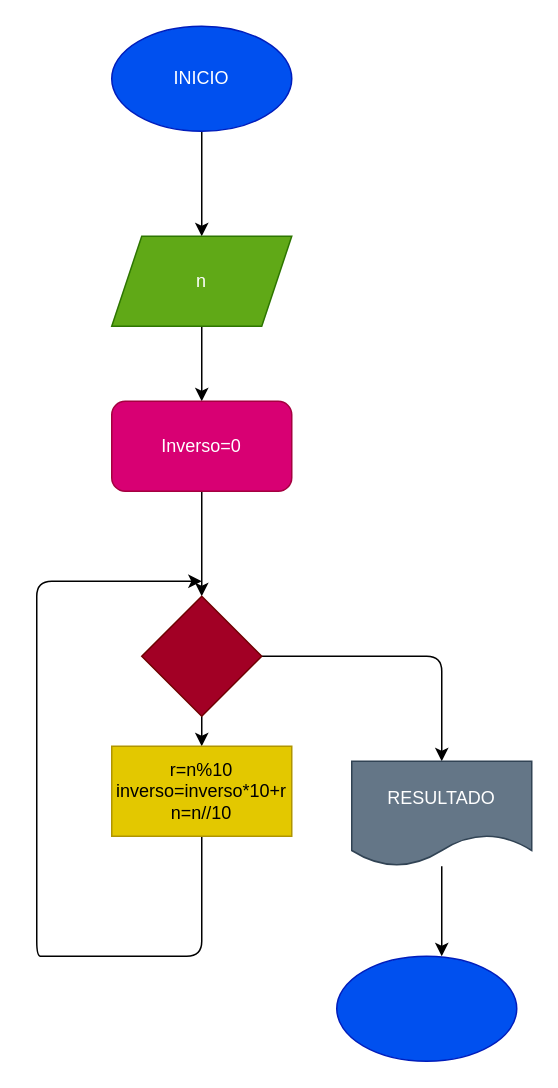
This 558x1088 diagram has some shape labels left out. Each missing label, with the centre of its shape:
FIN: (426,1008)
n>0: (201,655)
